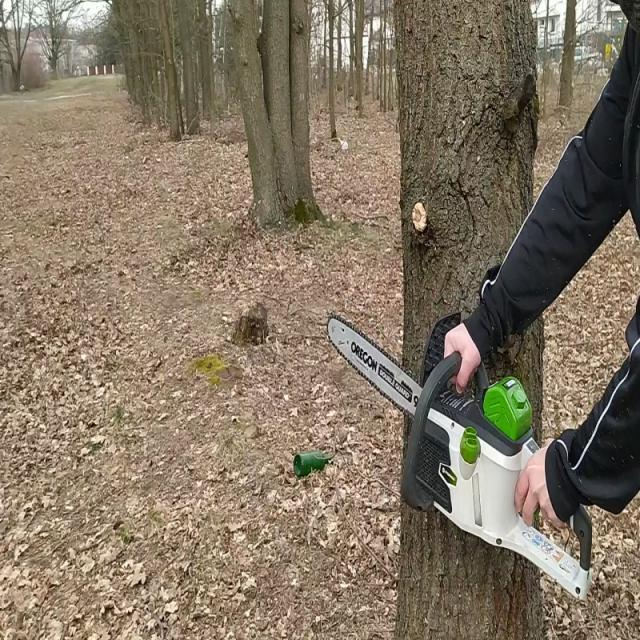Chainsaw: (323, 306, 597, 608)
